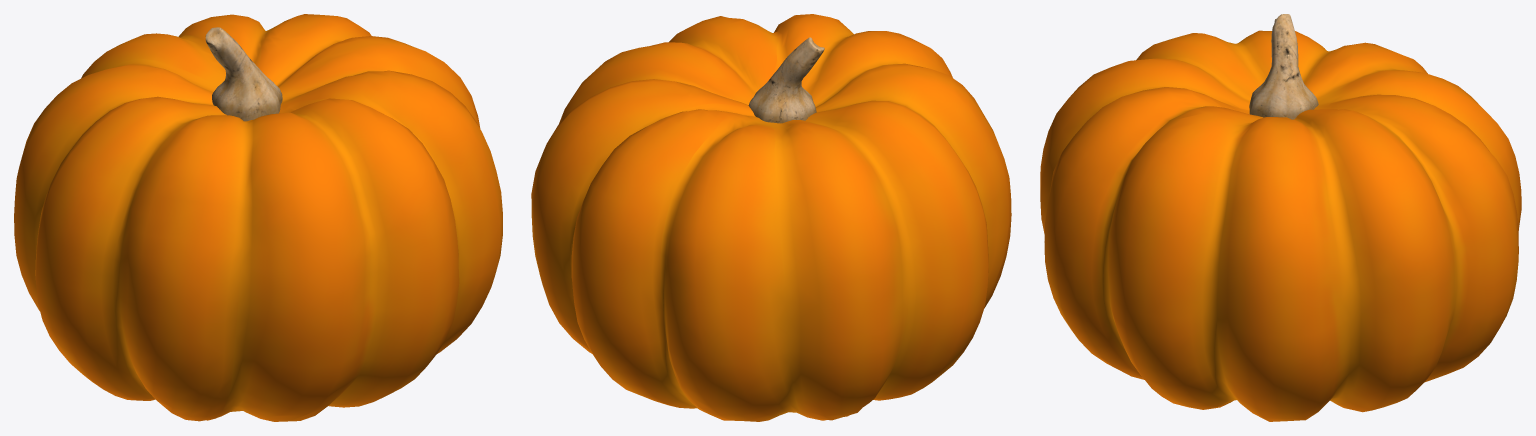
The model's file is uploads_files_3995722_PumpkinLP.obj.
3 views of the same model, side by side, from view 1: azimuth 30°, elevation 25°; view 2: azimuth 150°, elevation 25°; view 3: azimuth 270°, elevation 25° (orthographic). The views are drawn at different scales.
Visible parts, largest first — view 1: Retopo_Сфера.004_mesh.004, Retopo_Цилиндр.006_mesh.009; view 2: Retopo_Сфера.004_mesh.004, Retopo_Цилиндр.006_mesh.009; view 3: Retopo_Сфера.004_mesh.004, Retopo_Цилиндр.006_mesh.009.
Boxes of the visible parts, <box> form: Retopo_Сфера.004_mesh.004: <box>14,14,502,421</box>; Retopo_Цилиндр.006_mesh.009: <box>205,27,282,121</box>; Retopo_Сфера.004_mesh.004: <box>531,14,1011,421</box>; Retopo_Цилиндр.006_mesh.009: <box>748,37,824,123</box>; Retopo_Сфера.004_mesh.004: <box>1040,30,1521,421</box>; Retopo_Цилиндр.006_mesh.009: <box>1249,14,1318,119</box>.
Bounding box in the file's own units: 2.46 × 1.92 × 2.47.
